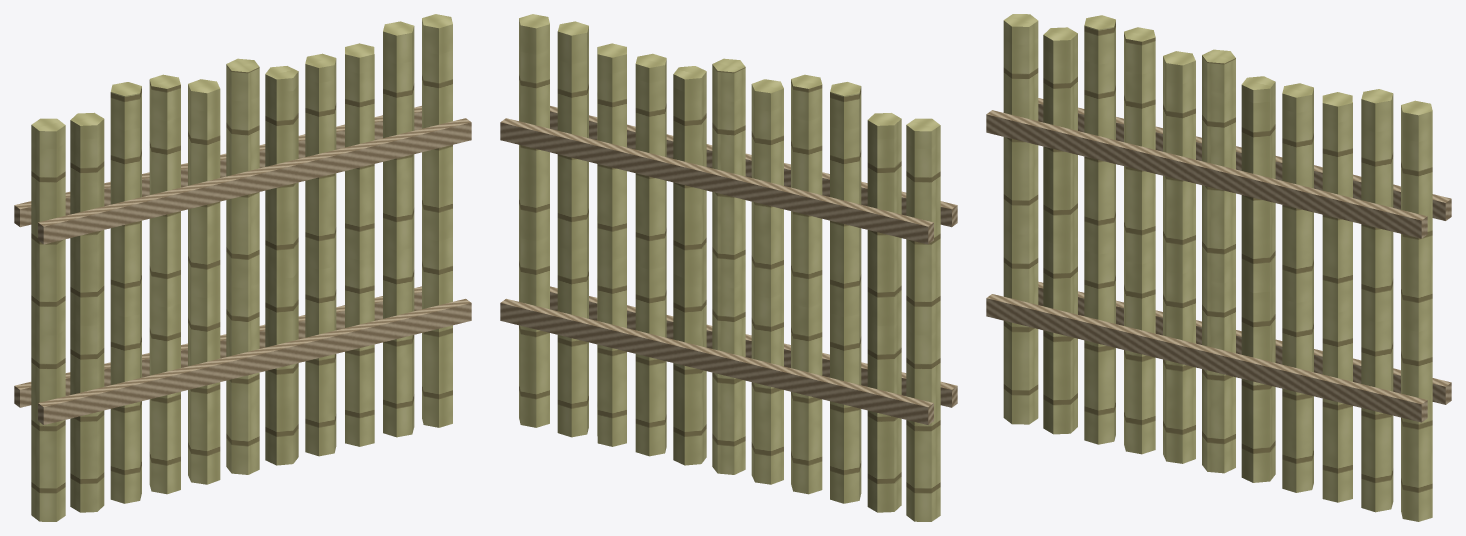
File: 대나무울타리.fbx
The picture shows the model from 3 angles, left to right: view 1: azimuth 30°, elevation 25°; view 2: azimuth 150°, elevation 25°; view 3: azimuth 330°, elevation 25°; orthographic projection.
Visible parts, largest first — view 1: 대나무울타리; view 2: 대나무울타리; view 3: 대나무울타리.
Boxes of the visible parts, left/top/right/bottom form: 대나무울타리: left=14, top=14, right=471, bottom=521; 대나무울타리: left=500, top=14, right=957, bottom=521; 대나무울타리: left=986, top=14, right=1451, bottom=521.
Size of the model in its own units: 600 by 546 by 71.45.
2 materials, 2 textured.
